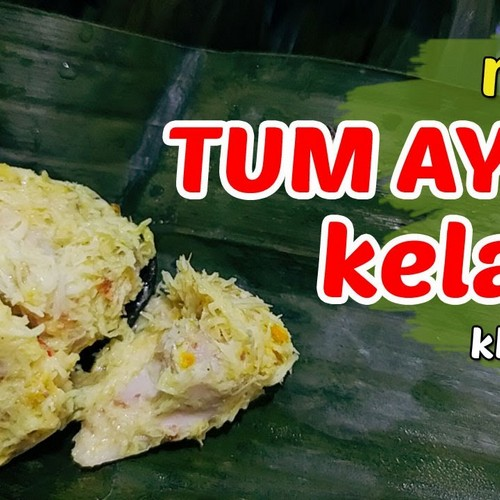tum ayam: (49, 273, 299, 457), (9, 174, 144, 457)
